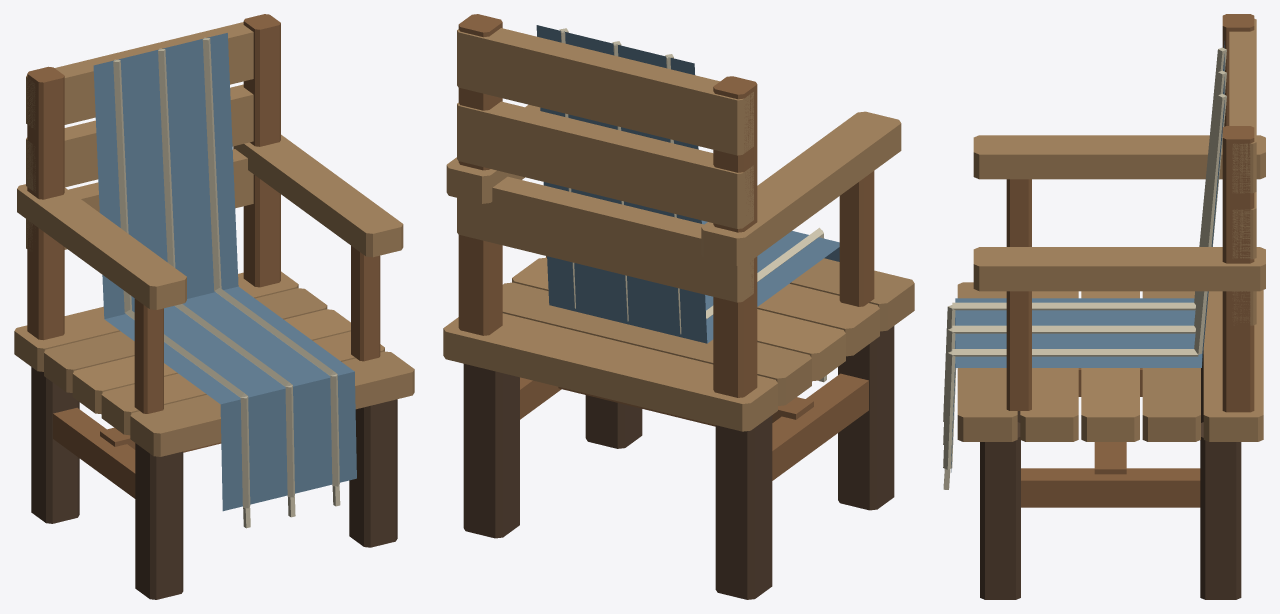
The model's file is deco_blanket_chair.glb.
3 renders of one model, left to right at view 1: azimuth 30°, elevation 25°; view 2: azimuth 150°, elevation 25°; view 3: azimuth 270°, elevation 25°, orthographic. The views are drawn at different scales.
Visible parts, largest first — view 1: geometry; view 2: geometry; view 3: geometry.
Part boxes in pixels (x1=…): geometry: x1=14, y1=14, x2=414, y2=599; geometry: x1=443, y1=14, x2=914, y2=599; geometry: x1=943, y1=14, x2=1265, y2=599.
Size of the model in its own units: 0.7 by 1.12 by 0.707.
